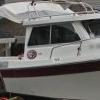Boat: (1, 1, 100, 99)
